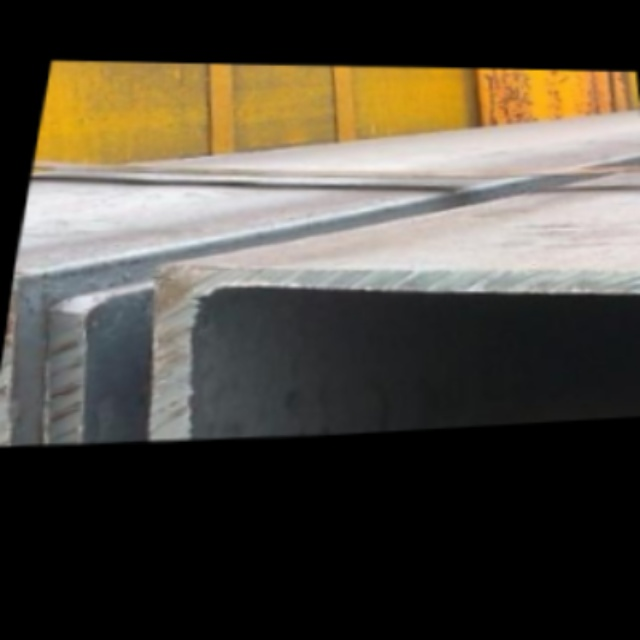Shveller: (57, 287, 640, 451), (157, 250, 640, 445)
